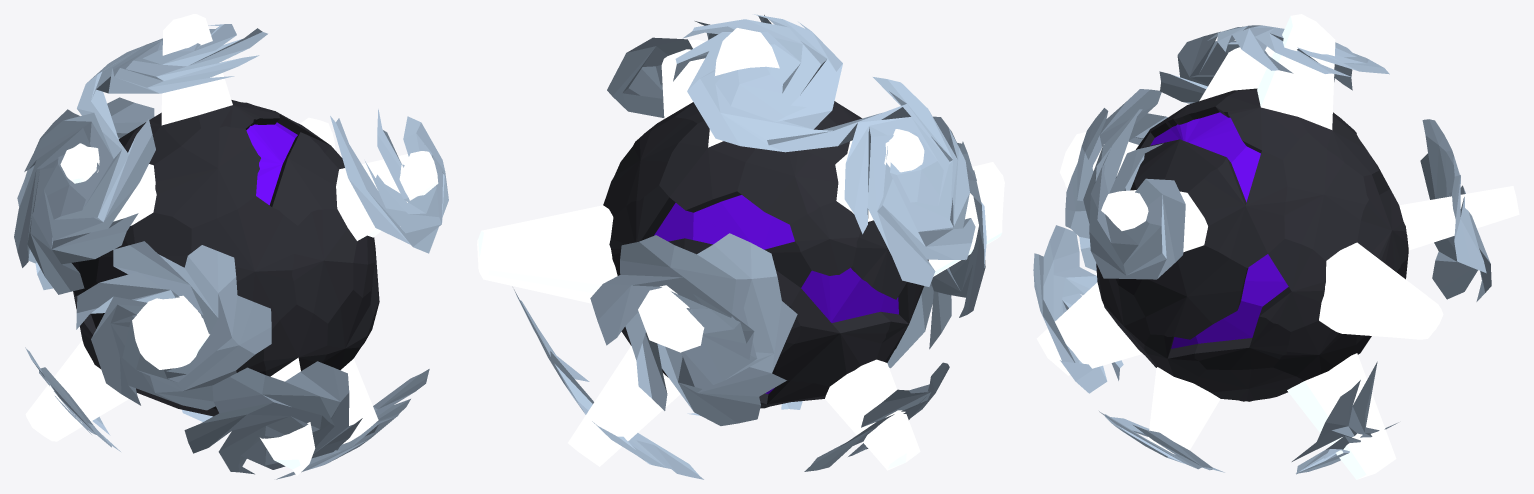
Rendered from Planet2Evo4.glb.
3 renders of one model, left to right at view 1: azimuth 30°, elevation 25°; view 2: azimuth 150°, elevation 25°; view 3: azimuth 270°, elevation 25°, orthographic. The views are drawn at different scales.
Parts seen in each view (by area): view 1: Icosphere.024; view 2: Icosphere.024; view 3: Icosphere.024.
Part boxes in pixels (left/top/right/bottom): Icosphere.024: left=14, top=14, right=448, bottom=479; Icosphere.024: left=477, top=14, right=1004, bottom=479; Icosphere.024: left=1033, top=14, right=1519, bottom=479.
Bounding box in the file's own units: 2.28 × 2.49 × 2.61.
